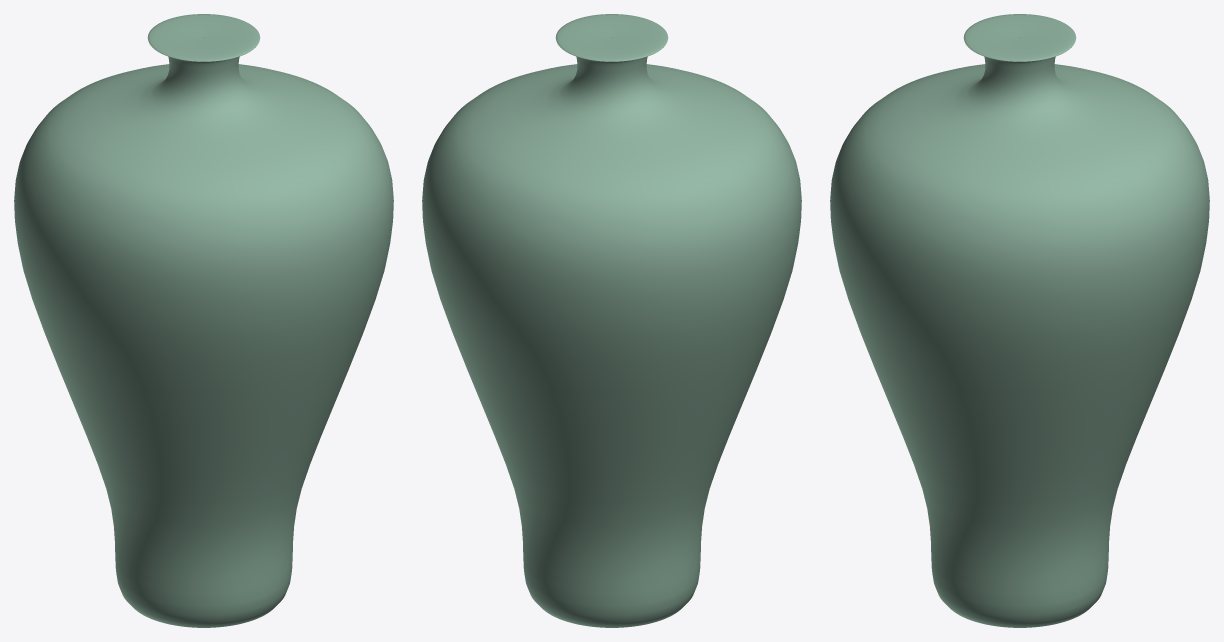
Rendered from cr-celadon.glb.
3 views of the same model, side by side, from view 1: azimuth 30°, elevation 25°; view 2: azimuth 150°, elevation 25°; view 3: azimuth 270°, elevation 25° (orthographic).
Visible parts, largest first — view 1: cr_celadon; view 2: cr_celadon; view 3: cr_celadon.
Part boxes in pixels (<box>): cr_celadon: <box>14,14,393,627</box>; cr_celadon: <box>422,14,801,627</box>; cr_celadon: <box>830,14,1209,627</box>.
Bounding box in the file's own units: 0.2316 × 0.38 × 0.2316.
